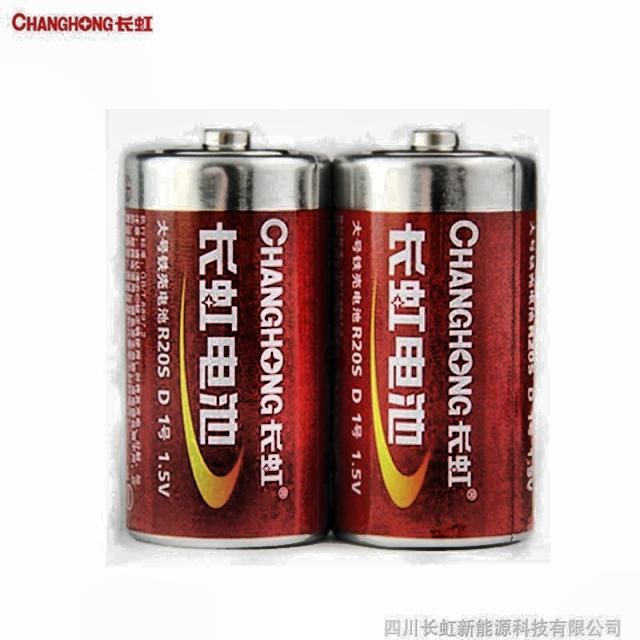Non-Valuable Waste - Batteries: (125, 129, 330, 547), (334, 132, 535, 547)
